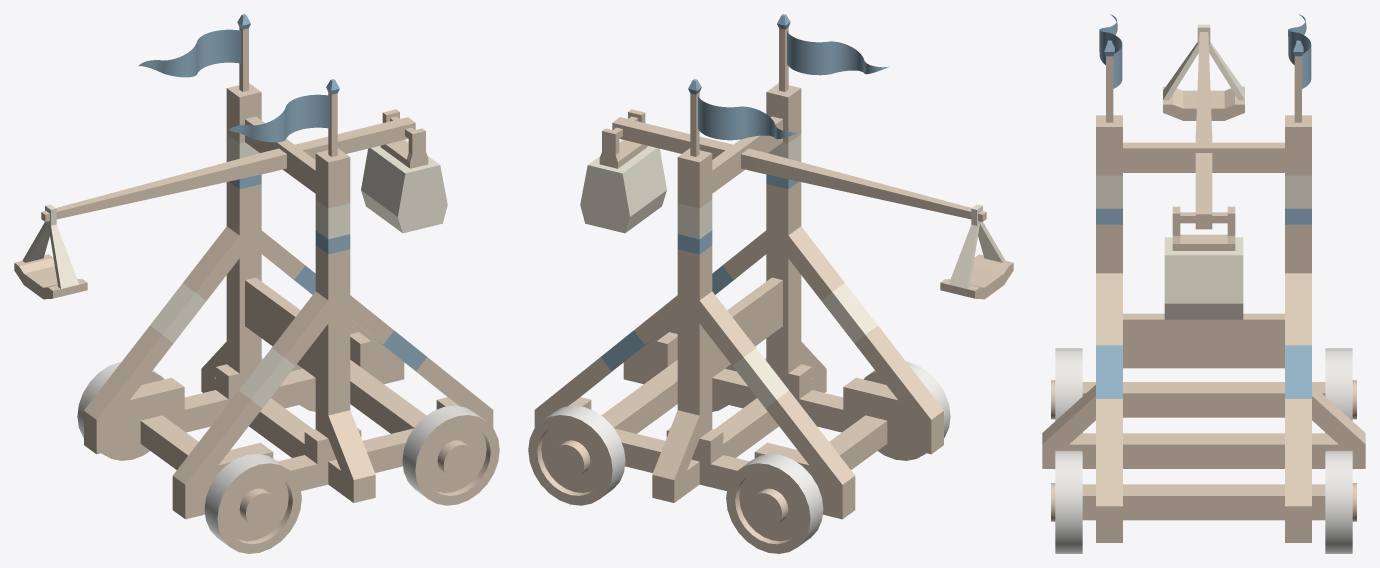
File: siegeTrebuchet.glb
The picture shows the model from 3 angles, left to right: view 1: azimuth 30°, elevation 25°; view 2: azimuth 150°, elevation 25°; view 3: azimuth 270°, elevation 25°; orthographic projection. The views are drawn at different scales.
Parts seen in each view (by area): view 1: body 9, wheelFrontRight 14, wheelBackRight 11, weight 2, trebuchet 2, catapult 5, flag 27, flag 26, wheelBackLeft 11; view 2: body 9, wheelFrontLeft 14, wheelBackLeft 11, weight 2, trebuchet 2, catapult 5, flag 26, flag 27, wheelBackRight 11; view 3: body 9, weight 2, catapult 5, wheelFrontLeft 14, wheelFrontRight 14, trebuchet 2, wheelBackLeft 11, wheelBackRight 11, flag 26, flag 27.
Part boxes in pixels (bbox=[...]): body 9: bbox=[84, 83, 493, 519]; wheelFrontRight 14: bbox=[402, 405, 499, 505]; wheelBackRight 11: bbox=[204, 454, 301, 553]; weight 2: bbox=[361, 109, 447, 233]; trebuchet 2: bbox=[41, 117, 415, 221]; catapult 5: bbox=[14, 204, 87, 299]; flag 27: bbox=[227, 79, 339, 156]; flag 26: bbox=[138, 14, 250, 91]; wheelBackLeft 11: bbox=[77, 361, 164, 460]; body 9: bbox=[534, 83, 943, 519]; wheelFrontLeft 14: bbox=[528, 405, 625, 505]; wheelBackLeft 11: bbox=[726, 454, 823, 553]; weight 2: bbox=[580, 109, 666, 233]; trebuchet 2: bbox=[612, 117, 986, 221]; catapult 5: bbox=[940, 204, 1013, 299]; flag 26: bbox=[688, 79, 800, 156]; flag 27: bbox=[777, 14, 888, 91]; wheelBackRight 11: bbox=[863, 361, 950, 460]; body 9: bbox=[1042, 115, 1365, 542]; weight 2: bbox=[1164, 206, 1243, 319]; catapult 5: bbox=[1163, 24, 1244, 120]; wheelFrontLeft 14: bbox=[1325, 450, 1356, 553]; wheelFrontRight 14: bbox=[1051, 450, 1082, 553]; trebuchet 2: bbox=[1195, 32, 1212, 229]; wheelBackLeft 11: bbox=[1325, 348, 1356, 433]; wheelBackRight 11: bbox=[1051, 348, 1082, 433]; flag 26: bbox=[1288, 14, 1311, 122]; flag 27: bbox=[1099, 14, 1122, 122].
Size of the model in its own units: 19.5 by 19.59 by 12.58.
